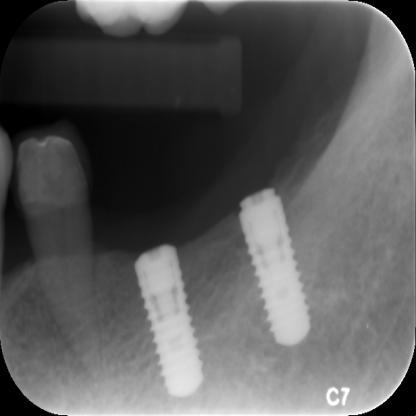ITI: (234, 186, 317, 350), (129, 241, 210, 403)
